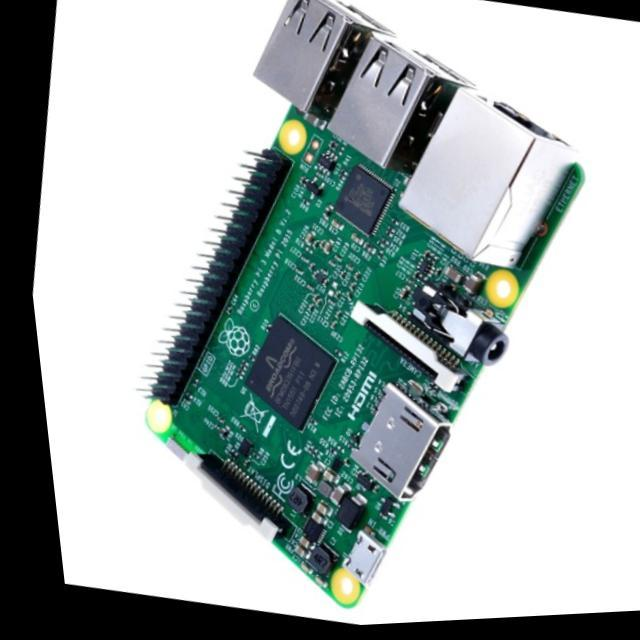Raspberry-Pi-3-B: (146, 1, 585, 608)
